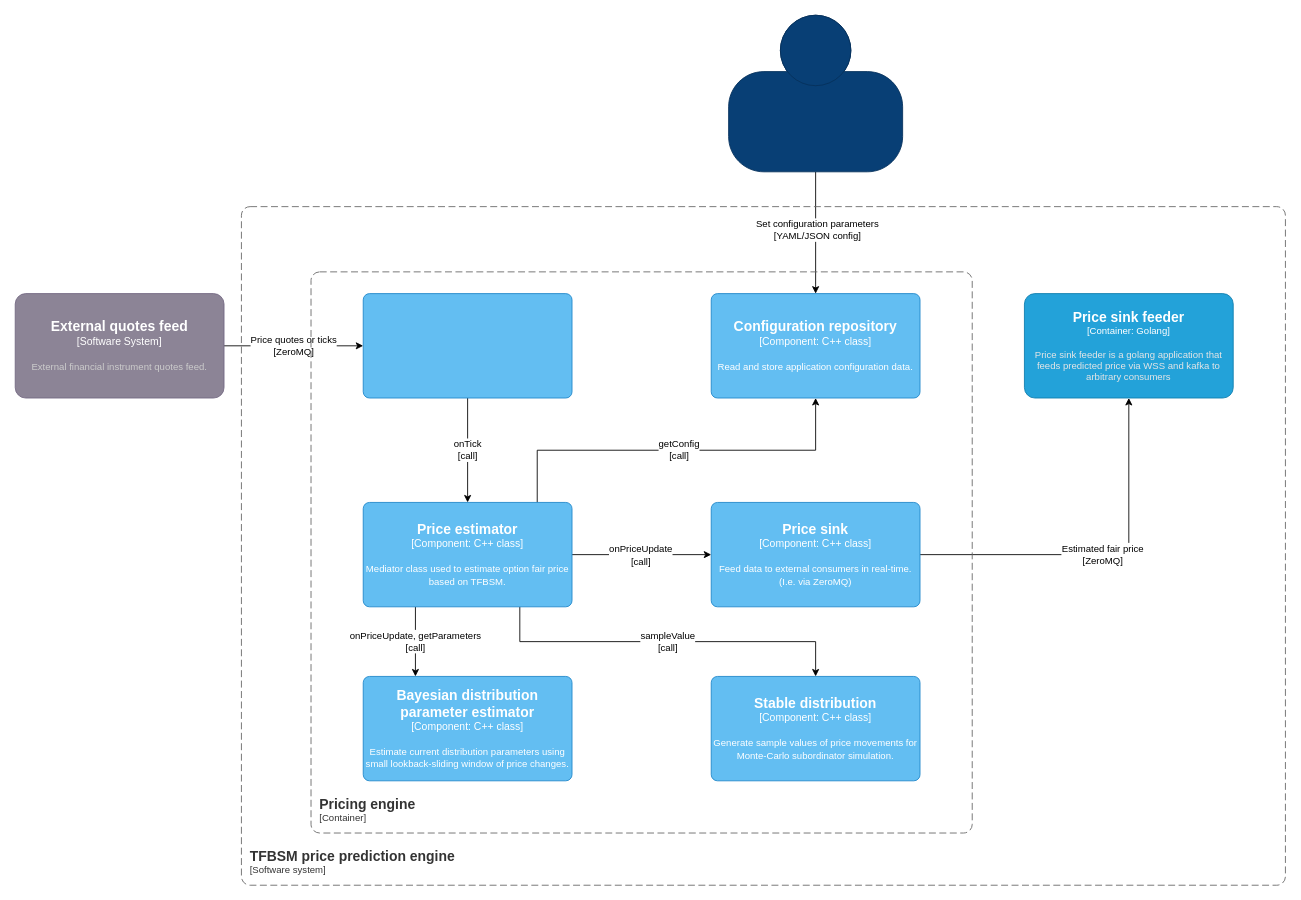
The diagram is 1301 pixels wide and 900 high, and some of its shapes have lost their labels. The shapes that lost their labels are listed below. From the top down, each one's centre as x and y in pixels, then its label:
At point 815,93: "Analyst [Person]".
At point 467,345: "Tick source [Component: C++ class] Collect tick-level data from data feeds.".
